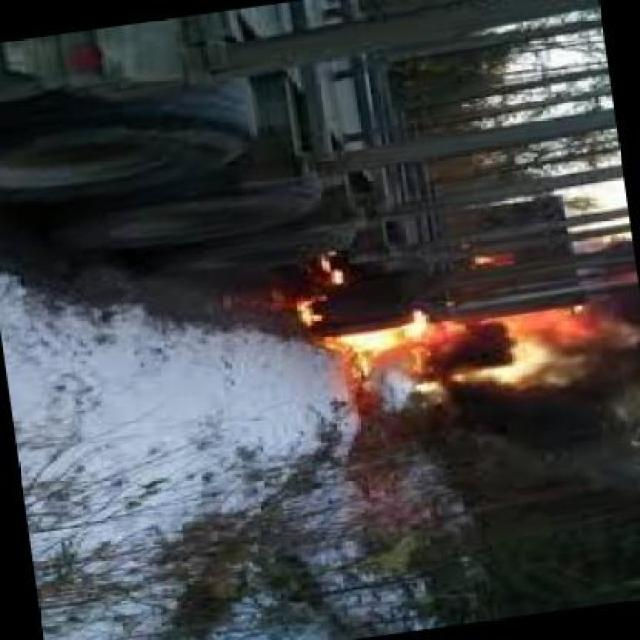Fire: (354, 312, 594, 379)
Smoke: (456, 371, 640, 479), (607, 284, 640, 370)
